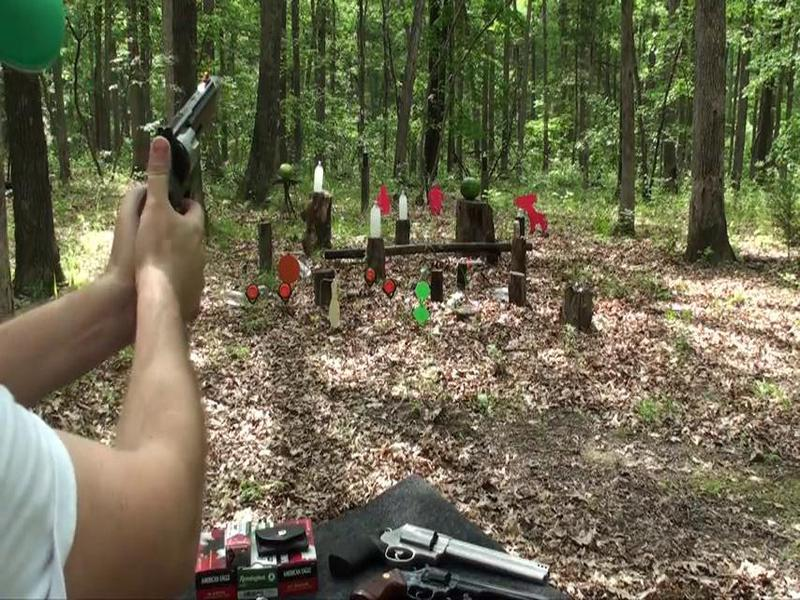Revolver: (131, 50, 225, 255)
